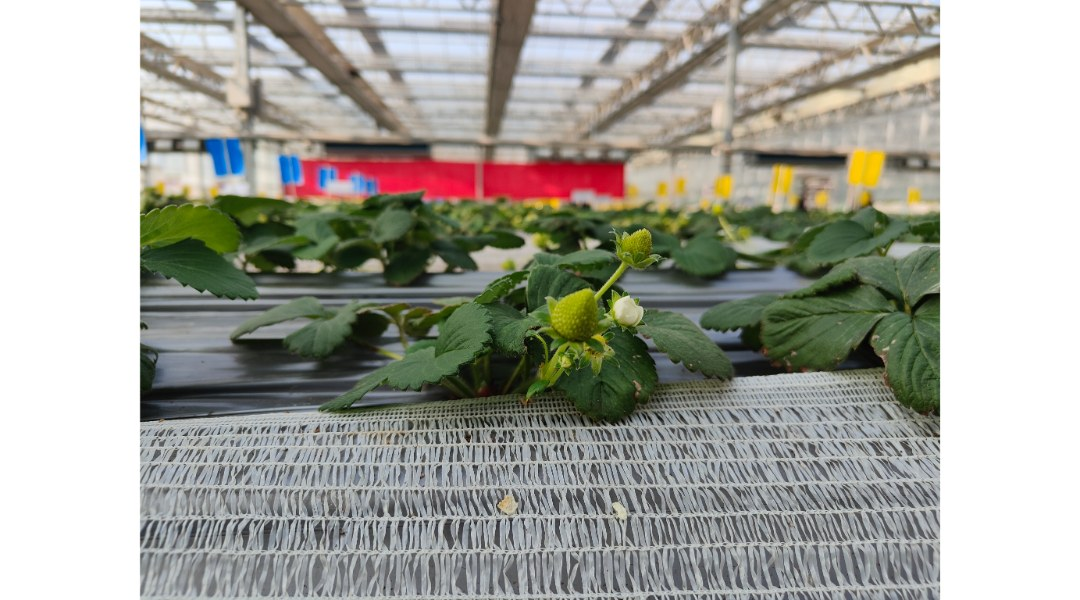berry: (549, 279, 601, 342), (614, 223, 663, 274), (614, 291, 645, 332)
strain: (596, 263, 622, 300)
